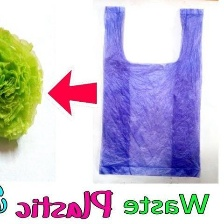plastic_bag: (95, 3, 208, 180)
